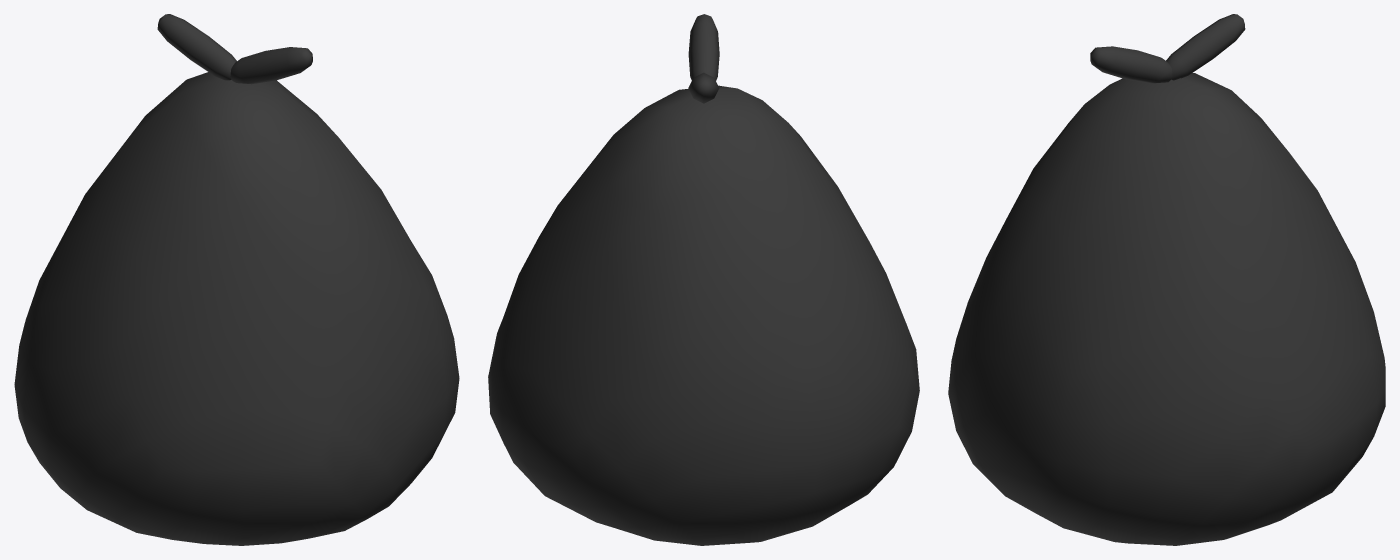
File: Rubbish_Bag.fbx
3 views of the same model, side by side, from view 1: azimuth 30°, elevation 25°; view 2: azimuth 150°, elevation 25°; view 3: azimuth 270°, elevation 25° (orthographic). The views are drawn at different scales.
Parts seen in each view (by area): view 1: pCube11; view 2: pCube11; view 3: pCube11.
Boxes of the visible parts, box(x1,y1,x2,y2) form: pCube11: box(14, 14, 459, 545); pCube11: box(488, 14, 919, 545); pCube11: box(948, 14, 1385, 545).
Size of the model in its own units: 3.17 by 3.77 by 3.08.
